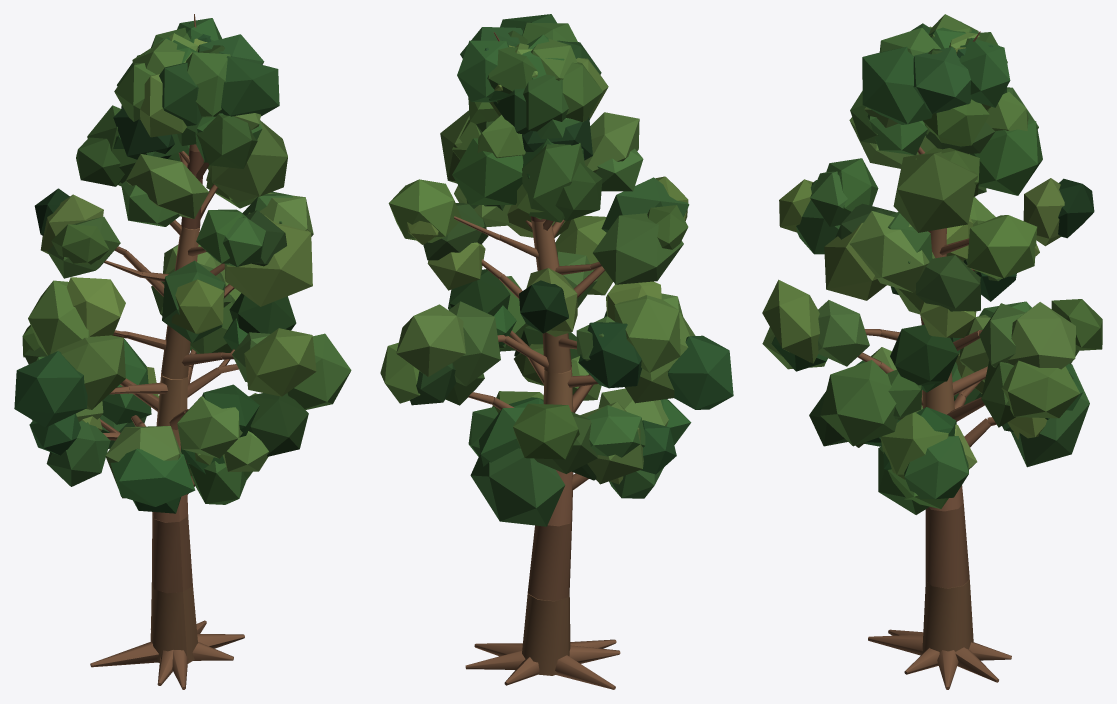
The model's file is tree_normal_large_redwood_b.glb.
3 renders of one model, left to right at view 1: azimuth 30°, elevation 25°; view 2: azimuth 150°, elevation 25°; view 3: azimuth 270°, elevation 25°, orthographic. The views are drawn at different scales.
Visible parts, largest first — view 1: leaves, wood; view 2: leaves, wood; view 3: leaves, wood.
Part boxes in pixels (x1=…): leaves: x1=14, y1=18, x2=351, y2=513; wood: x1=90, y1=14, x2=244, y2=689; leaves: x1=380, y1=14, x2=733, y2=526; wood: x1=454, y1=32, x2=620, y2=689; leaves: x1=762, y1=14, x2=1102, y2=514; wood: x1=857, y1=31, x2=1011, y2=689.
Bounding box in the file's own units: 12.39 × 24.9 × 11.88.
